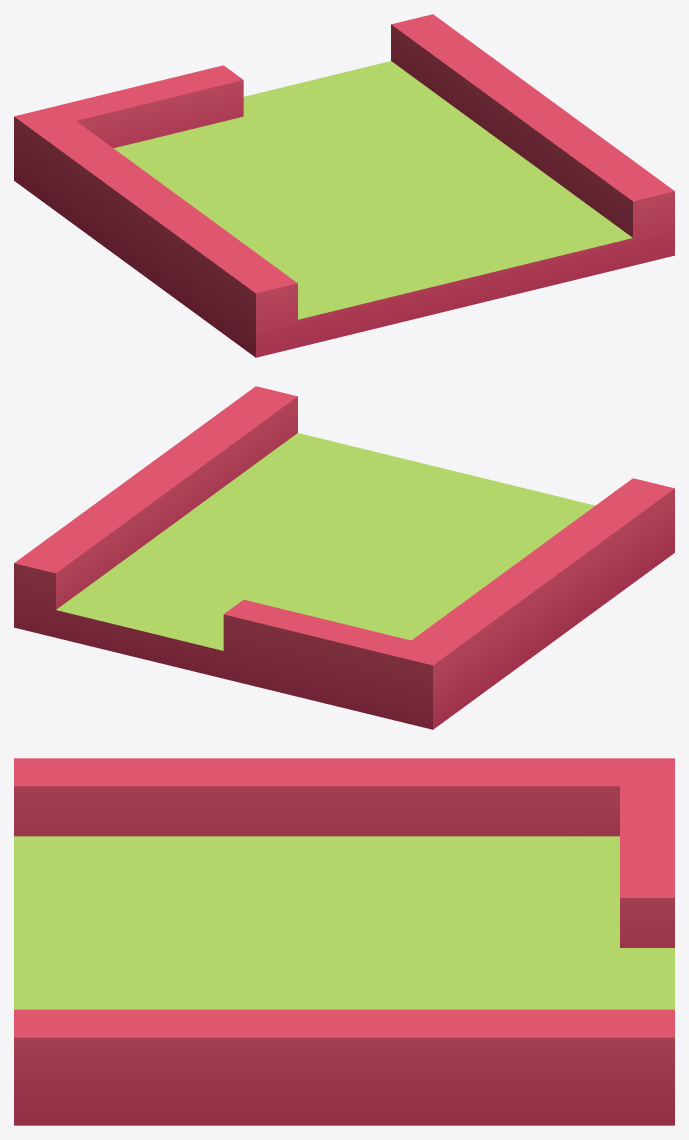
The model's file is wall-right.gltf.
3 renders of one model, top to bottom at view 1: azimuth 30°, elevation 25°; view 2: azimuth 150°, elevation 25°; view 3: azimuth 270°, elevation 25°, orthographic. The views are drawn at different scales.
Parts seen in each view (by area): view 1: wall-right; view 2: wall-right; view 3: wall-right.
Boxes of the visible parts, left/top/right/bottom form: wall-right: left=14, top=14, right=674, bottom=357; wall-right: left=14, top=386, right=674, bottom=729; wall-right: left=14, top=758, right=674, bottom=1125.
Bounding box in the file's own units: 0.9999 × 0.1467 × 0.9999.
1 material, 1 textured.
